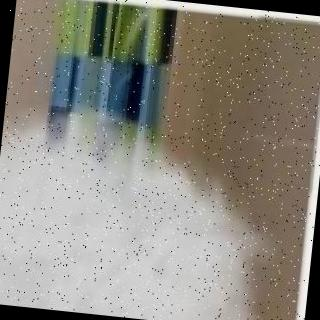smoke: (0, 102, 291, 320)
